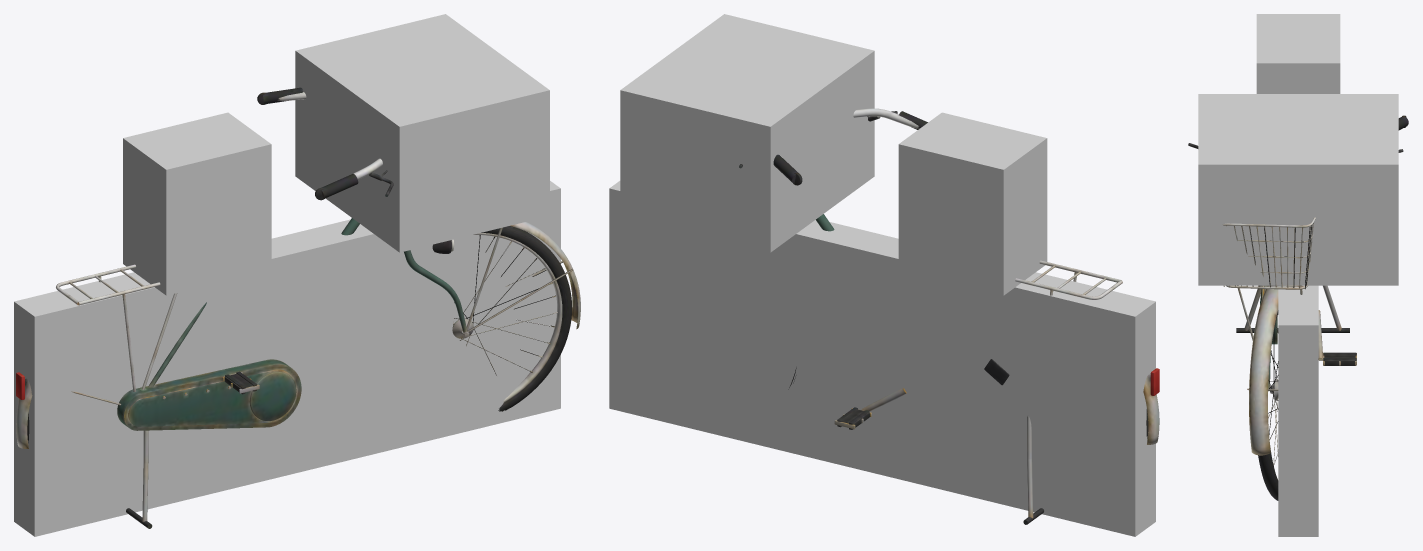
The model's file is bike01.gltf.
3 renders of one model, left to right at view 1: azimuth 30°, elevation 25°; view 2: azimuth 150°, elevation 25°; view 3: azimuth 270°, elevation 25°, orthographic. The views are drawn at different scales.
Visible parts, largest first — view 1: bike01_COL, bike01_LOD0; view 2: bike01_COL, bike01_LOD0; view 3: bike01_COL, bike01_LOD0.
Boxes of the visible parts, x1=… form: bike01_COL: x1=14, y1=14, x2=560, y2=536; bike01_LOD0: x1=16, y1=87, x2=580, y2=528; bike01_COL: x1=609, y1=14, x2=1155, y2=536; bike01_LOD0: x1=739, y1=108, x2=1159, y2=524; bike01_COL: x1=1198, y1=14, x2=1398, y2=536; bike01_LOD0: x1=1188, y1=115, x2=1408, y2=500.
Size of what is drawn, in the model's own units: 1.81 by 1.15 by 0.6613.
1 material, 1 textured.
